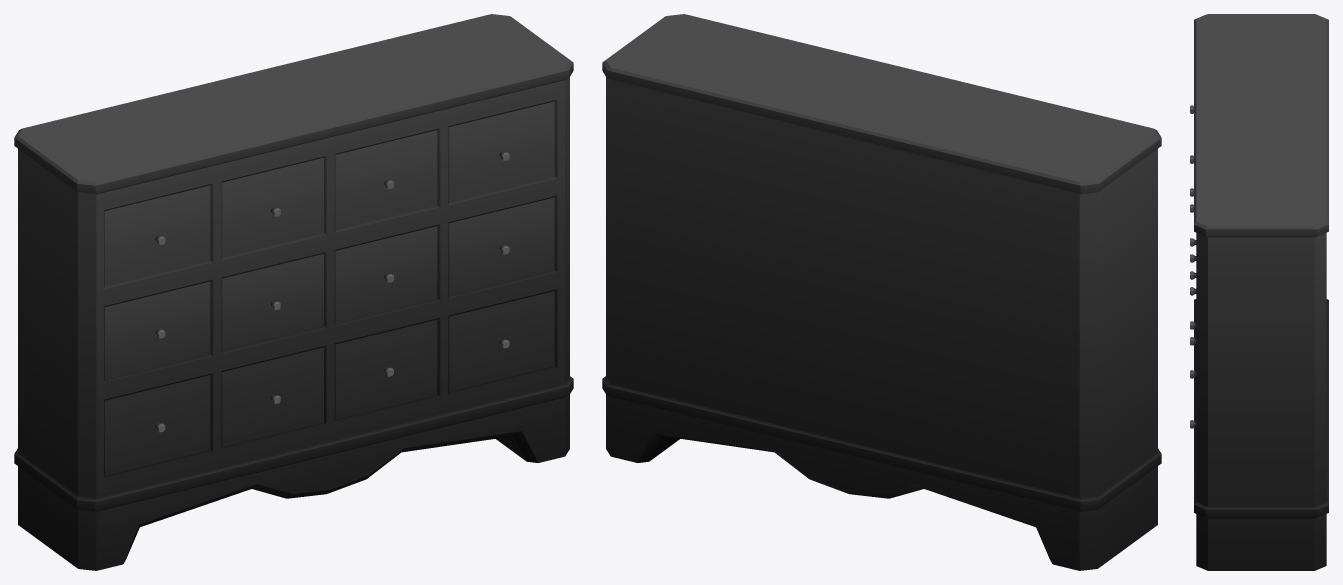
File: Draw_03.fbx
3 renders of one model, left to right at view 1: azimuth 30°, elevation 25°; view 2: azimuth 150°, elevation 25°; view 3: azimuth 270°, elevation 25°, orthographic. The views are drawn at different scales.
Parts seen in each view (by area): view 1: draw_3; view 2: draw_3; view 3: draw_3.
Boxes of the visible parts, <box> form: draw_3: <box>14,14,573,570</box>; draw_3: <box>602,14,1161,570</box>; draw_3: <box>1190,14,1328,570</box>.
Size of the model in its own units: 1.25 by 0.9383 by 0.343.
